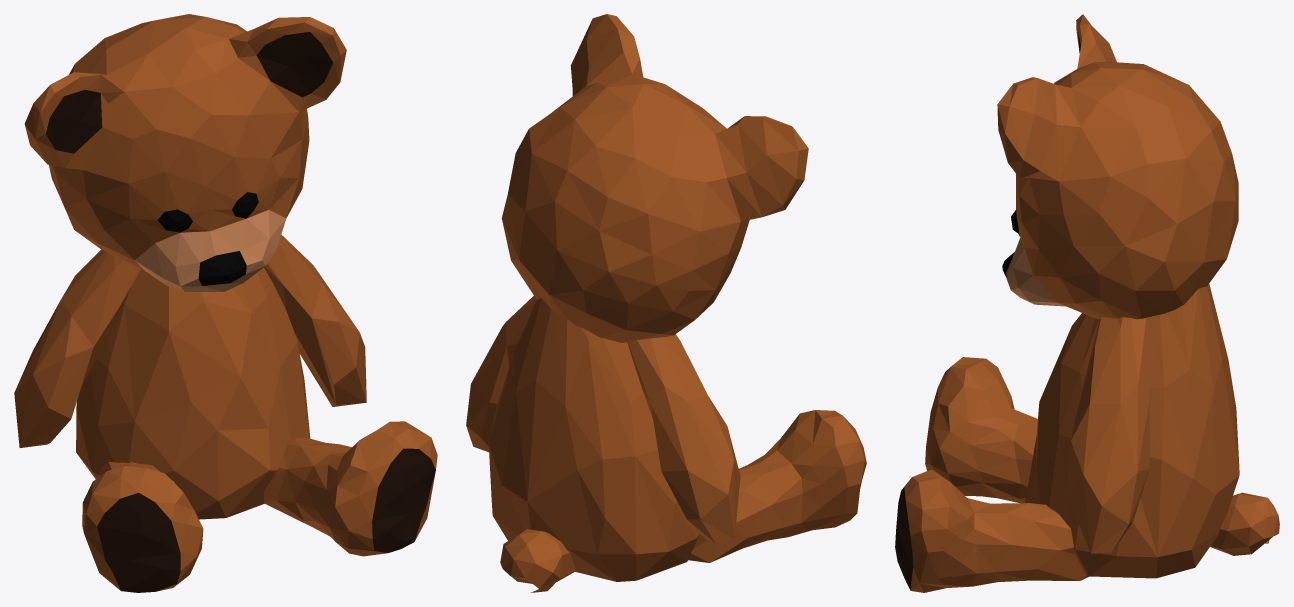
The model's file is teddy.FBX.
3 renders of one model, left to right at view 1: azimuth 30°, elevation 25°; view 2: azimuth 150°, elevation 25°; view 3: azimuth 270°, elevation 25°, orthographic. The views are drawn at different scales.
Visible parts, largest first — view 1: Object003; view 2: Object003; view 3: Object003.
Boxes of the visible parts, bbox=[...] form: Object003: bbox=[14, 14, 437, 592]; Object003: bbox=[466, 14, 866, 592]; Object003: bbox=[895, 14, 1279, 592].
Bounding box in the file's own units: 63.91 × 89.46 × 63.67.
